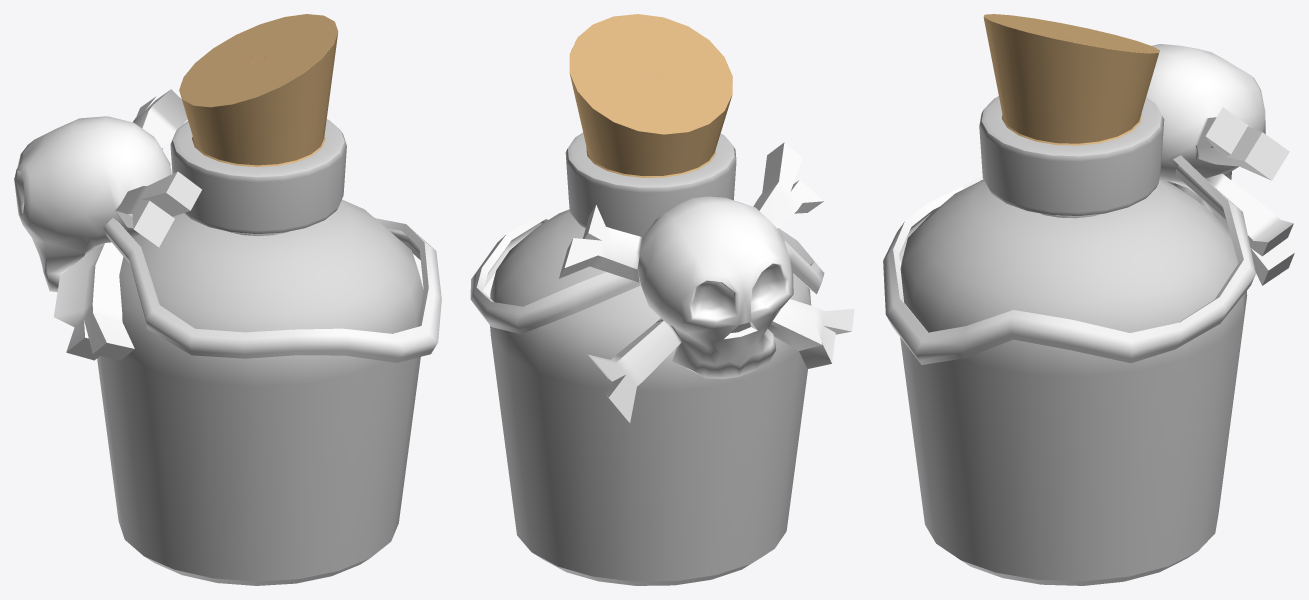
File: SkullPotion.fbx
3 views of the same model, side by side, from view 1: azimuth 30°, elevation 25°; view 2: azimuth 150°, elevation 25°; view 3: azimuth 270°, elevation 25° (orthographic). The views are drawn at different scales.
Parts seen in each view (by area): view 1: SkullBottle, Skull, Rope; view 2: SkullBottle, Skull, Rope; view 3: SkullBottle, Skull, Rope.
Boxes of the visible parts, left/top/right/bottom form: SkullBottle: left=97, top=14, right=423, bottom=585; Skull: left=14, top=89, right=201, bottom=360; Rope: left=103, top=169, right=441, bottom=362; SkullBottle: left=490, top=14, right=811, bottom=585; Skull: left=559, top=142, right=854, bottom=422; Rope: left=470, top=212, right=824, bottom=334; SkullBottle: left=900, top=14, right=1247, bottom=585; Skull: left=1146, top=44, right=1294, bottom=285; Rope: left=883, top=155, right=1255, bottom=364.
Size of the model in its own units: 0.9793 by 1.35 by 0.953.
